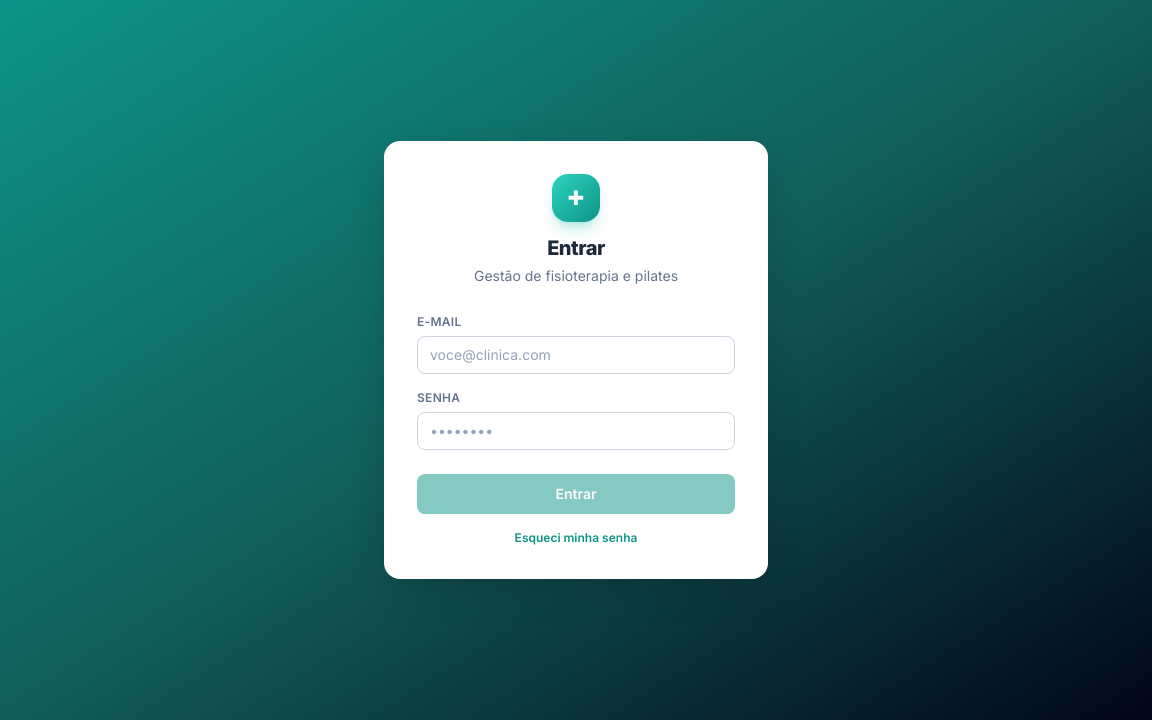
Test: Recuperação de senha › acessa a página pelo link "Esqueci minha senha" do login
Click the link "Esqueci minha senha" at {"x": 577, "y": 538}, box x1=515 y1=530 x2=638 y2=545
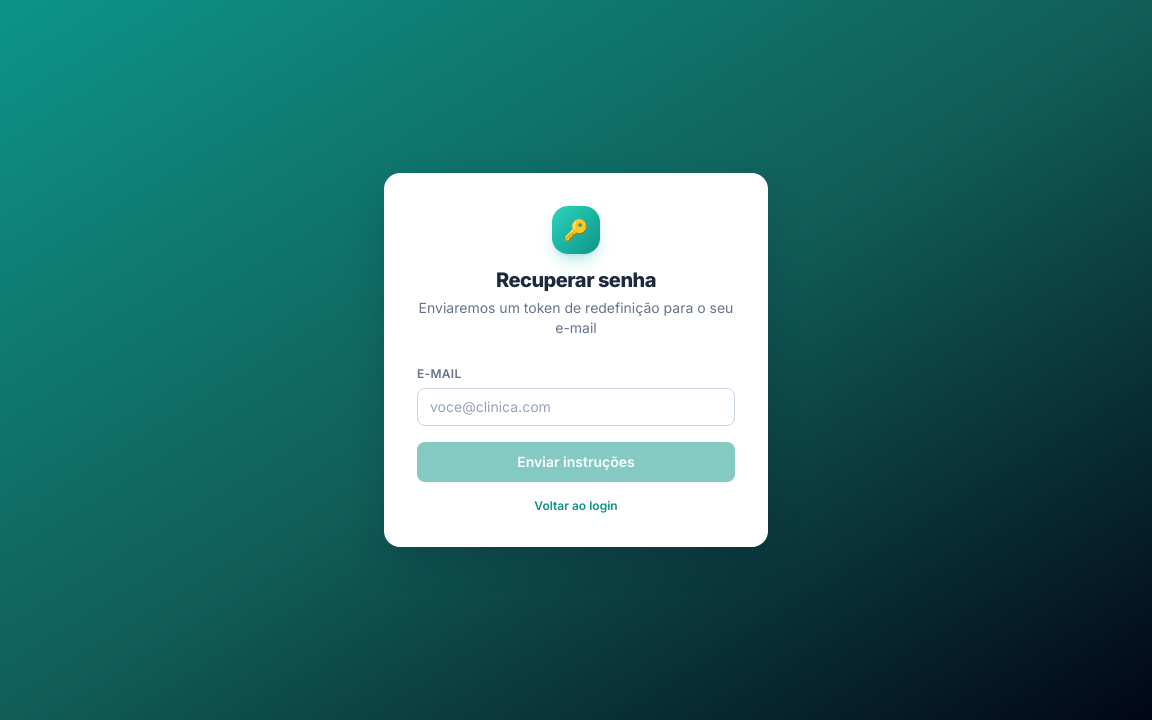
Now the heading "Recuperar senha" is shown, box x1=496 y1=268 x2=656 y2=292
